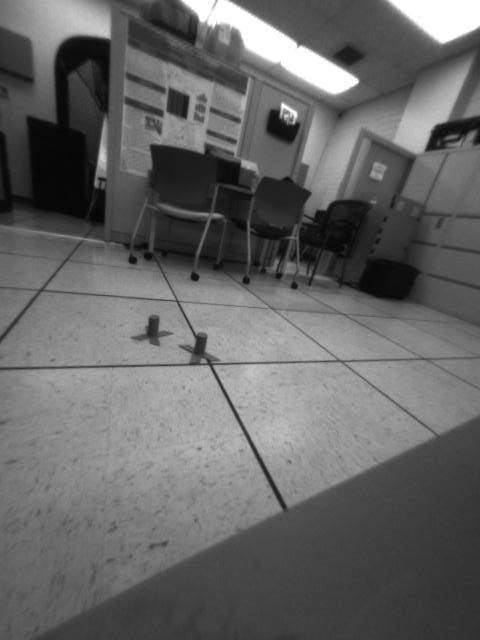X: (176, 328, 222, 368), (131, 311, 176, 350)
